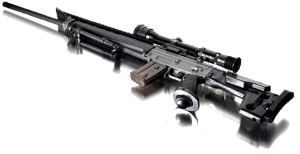rifle: (3, 2, 299, 139)
